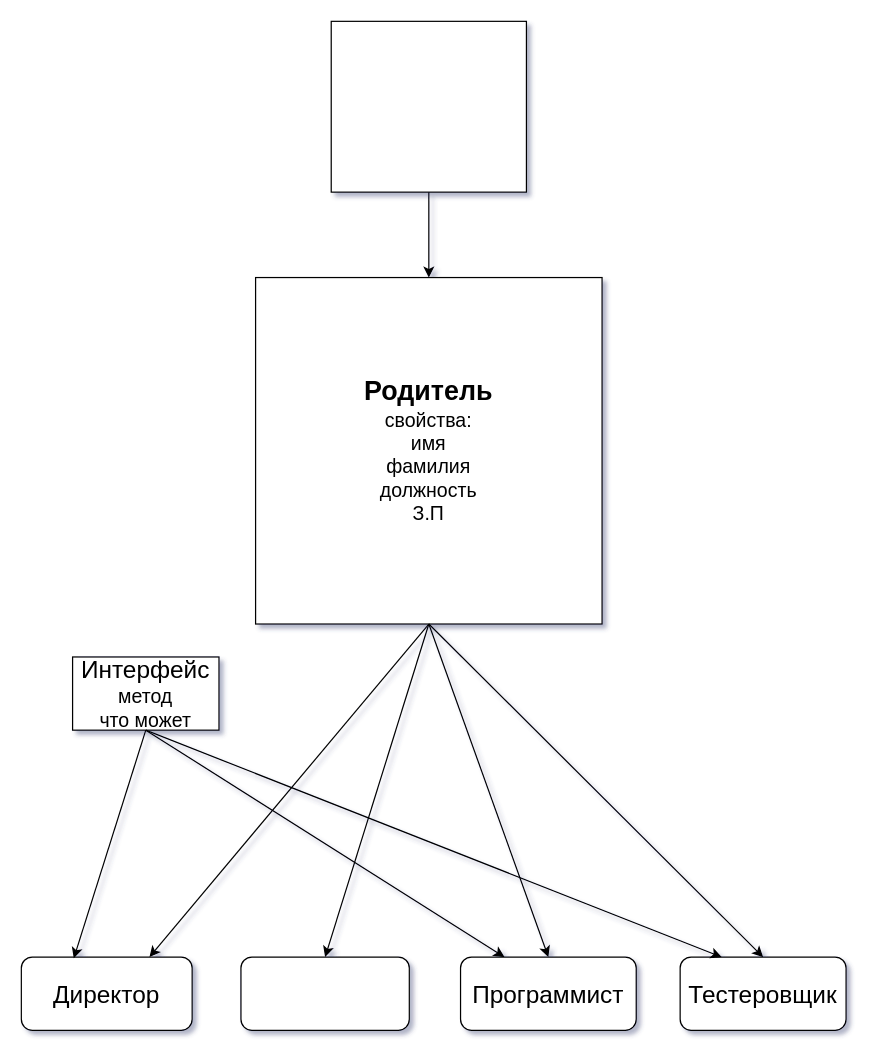
This 875x1059 diagram has some shape labels left out. Each missing label, with the centre of its shape:
Интерфейс методы: вывод информации добавить опцию: the point at 428,106
Менеджер: the point at 324,993
